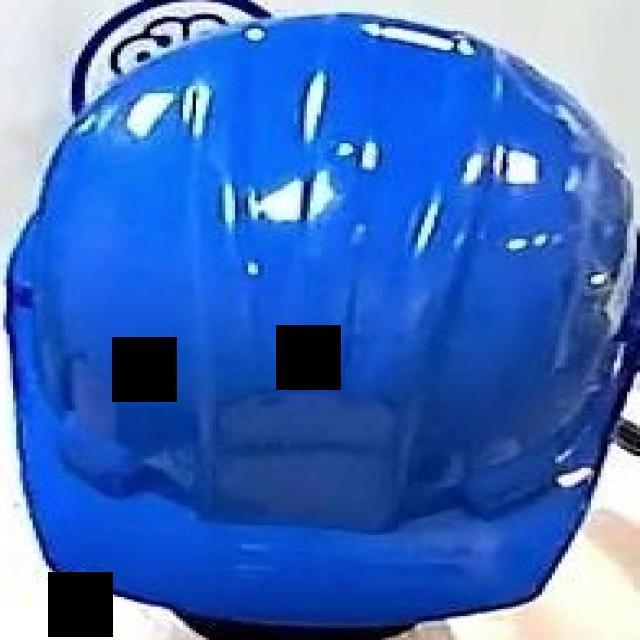blue helmet: (3, 8, 640, 632)
